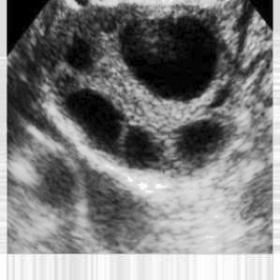PCOS: (134, 24, 215, 94), (74, 90, 123, 142), (173, 128, 223, 159), (125, 122, 157, 164), (69, 43, 99, 70), (219, 78, 233, 114)
